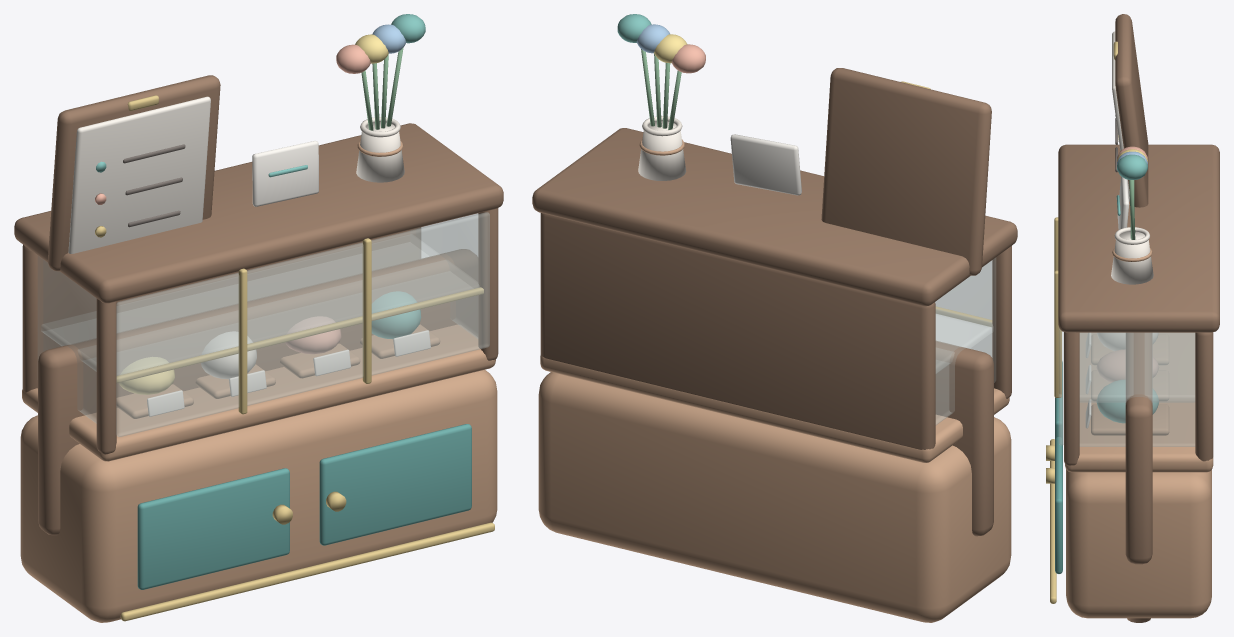
File: civic-display-case.glb
3 views of the same model, side by side, from view 1: azimuth 30°, elevation 25°; view 2: azimuth 150°, elevation 25°; view 3: azimuth 270°, elevation 25° (orthographic). The views are drawn at different scales.
Visible parts, largest first — view 1: DisplayFrontGlass, DisplayOakBase, DisplayCaseTop, DisplayWalnutPlinth, DisplayMenuPaper, DisplayCaseFloor, DisplayCaseBack, DisplayShelf, DisplayInset_-1, DisplayInset_1, DisplayMenuFrame, DisplaySideGlass_-0.84 (+22 smaller); view 2: DisplayOakBase, DisplayCaseBack, DisplayCaseTop, DisplayMenuFrame, DisplayWalnutPlinth, DisplayCaseFloor, DisplaySideGlass_-0.84, DisplayStoryCard, DisplayPost_-0.86, DisplayFrontGlass, DisplayTopVase_body, DisplayShelf (+2 smaller); view 3: DisplayCaseTop, DisplayOakBase, DisplaySideGlass_0.84, DisplayCaseFloor, DisplayWalnutPlinth, DisplayShelf, DisplayMenuFrame, DisplayCaseBack, DisplayPost_0.86, DisplayTopVase_body, DisplayTray_4, DisplayObject_4 (+15 smaller).
Part boxes in pixels (bbox=[...]): DisplayFrontGlass: bbox=[116, 212, 489, 436]; DisplayOakBase: bbox=[20, 369, 497, 622]; DisplayCaseTop: bbox=[14, 123, 503, 303]; DisplayWalnutPlinth: bbox=[38, 249, 477, 535]; DisplayMenuPaper: bbox=[68, 96, 210, 253]; DisplayCaseFloor: bbox=[22, 324, 495, 461]; DisplayCaseBack: bbox=[22, 227, 421, 392]; DisplayShelf: bbox=[41, 241, 473, 375]; DisplayInset_-1: bbox=[137, 468, 289, 589]; DisplayInset_1: bbox=[319, 424, 471, 545]; DisplayMenuFrame: bbox=[47, 75, 220, 271]; DisplaySideGlass_-0.84: bbox=[38, 256, 96, 423]; DisplayOakBase: bbox=[538, 372, 1011, 622]; DisplayCaseBack: bbox=[540, 213, 935, 449]; DisplayCaseTop: bbox=[532, 128, 1017, 306]; DisplayMenuFrame: bbox=[821, 68, 991, 275]; DisplayWalnutPlinth: bbox=[935, 341, 993, 536]; DisplayCaseFloor: bbox=[540, 354, 1009, 462]; DisplaySideGlass_-0.84: bbox=[935, 258, 995, 425]; DisplayStoryCard: bbox=[730, 134, 801, 195]; DisplayPost_-0.86: bbox=[992, 246, 1011, 398]; DisplayFrontGlass: bbox=[935, 261, 991, 356]; DisplayTopVase_body: bbox=[638, 121, 686, 180]; DisplayShelf: bbox=[936, 309, 992, 373]; DisplayCaseTop: bbox=[1058, 144, 1219, 332]; DisplayOakBase: bbox=[1066, 469, 1211, 618]; DisplaySideGlass_0.84: bbox=[1079, 332, 1195, 446]; DisplayCaseFloor: bbox=[1065, 333, 1213, 472]; DisplayWalnutPlinth: bbox=[1125, 332, 1152, 564]; DisplayShelf: bbox=[1080, 333, 1194, 402]; DisplayMenuFrame: bbox=[1115, 14, 1148, 207]; DisplayCaseBack: bbox=[1195, 332, 1213, 461]; DisplayPost_0.86: bbox=[1064, 332, 1079, 465]; DisplayTopVase_body: bbox=[1111, 231, 1153, 284]; DisplayTray_4: bbox=[1091, 404, 1169, 435]; DisplayObject_4: bbox=[1097, 380, 1158, 423].
Bounding box in the file's own units: 1.96 × 2.21 × 0.7745.
